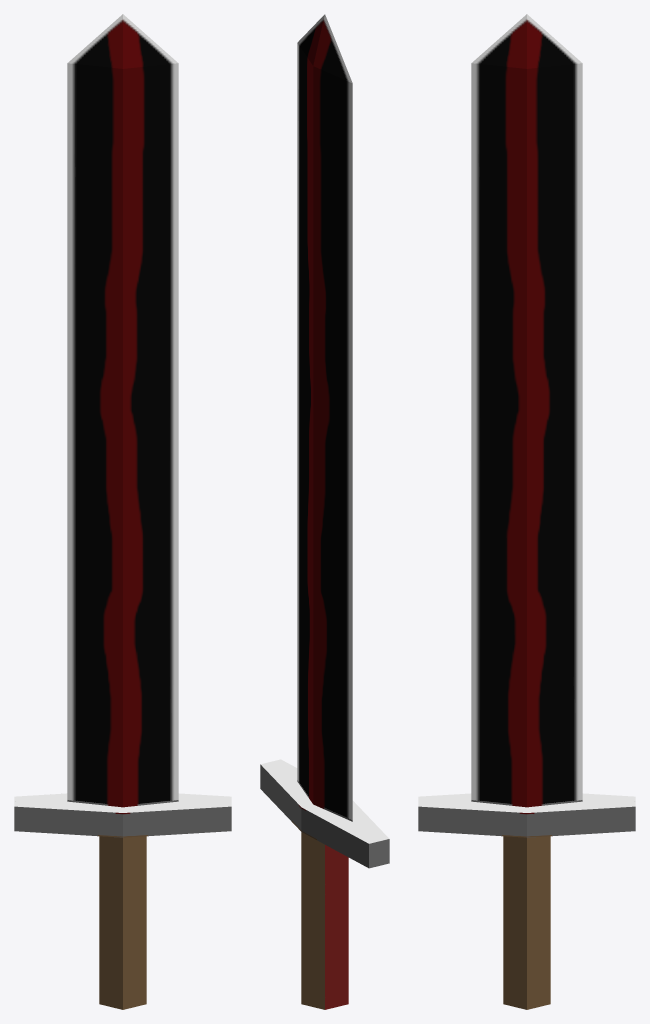
File: weaponTest.glb
3 views of the same model, side by side, from view 1: azimuth 90°, elevation 25°; view 2: azimuth 210°, elevation 25°; view 3: azimuth 270°, elevation 25° (orthographic).
Visible parts, largest first — view 1: Cube; view 2: Cube; view 3: Cube.
Part boxes in pixels (x1=…): Cube: x1=14, y1=14, x2=231, y2=1009; Cube: x1=260, y1=14, x2=389, y2=1009; Cube: x1=418, y1=14, x2=635, y2=1009.
Size of the model in its own units: 2 by 40 by 8.
1 material, 1 textured.
